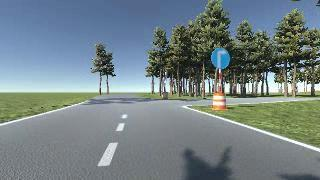turn_right: (211, 47, 230, 68)
